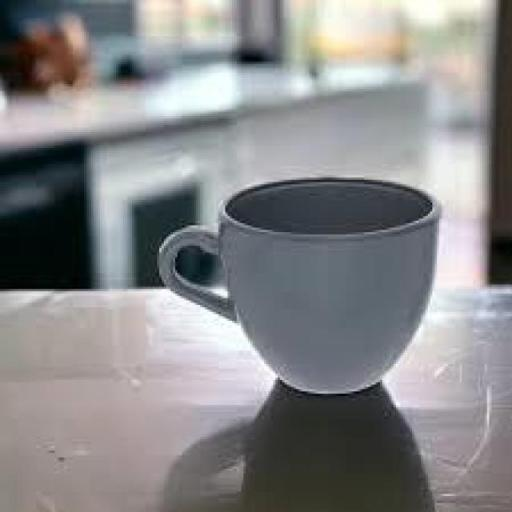glass: (154, 174, 441, 396)
